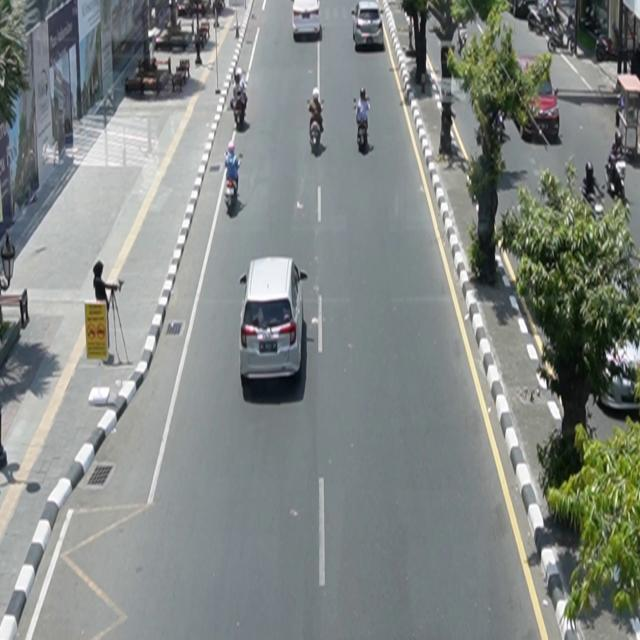car: (239, 257, 309, 385), (513, 56, 561, 142), (352, 1, 385, 50), (292, 1, 322, 41)
